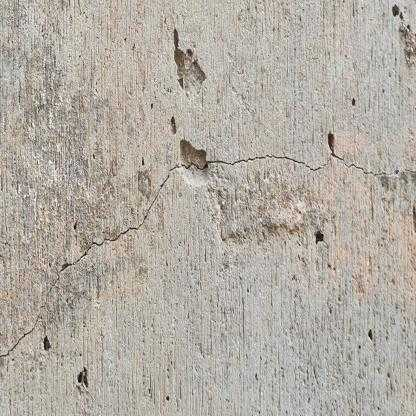crack: (1, 152, 398, 358)
